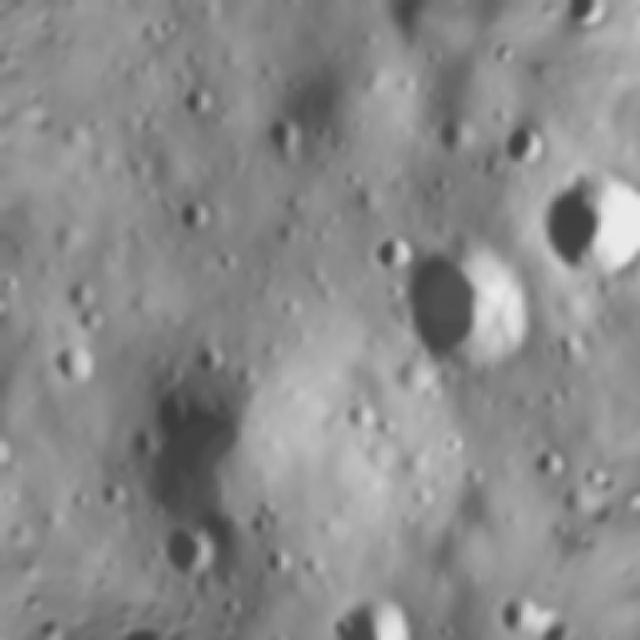crater: (370, 207, 568, 404), (102, 367, 290, 541), (515, 145, 640, 307), (305, 574, 441, 640), (242, 100, 327, 183), (147, 515, 230, 596), (39, 327, 115, 402), (487, 108, 558, 181), (360, 217, 426, 286), (180, 329, 240, 389), (483, 584, 542, 640), (166, 189, 226, 243), (523, 440, 575, 494), (174, 76, 223, 127), (251, 538, 304, 585), (90, 472, 136, 517), (340, 397, 385, 440), (60, 273, 103, 318), (0, 418, 23, 480), (0, 305, 18, 382), (72, 301, 108, 336), (271, 290, 307, 324), (212, 244, 245, 278), (243, 511, 277, 543), (252, 492, 283, 522), (373, 410, 402, 441), (0, 266, 23, 296), (0, 288, 14, 322)
